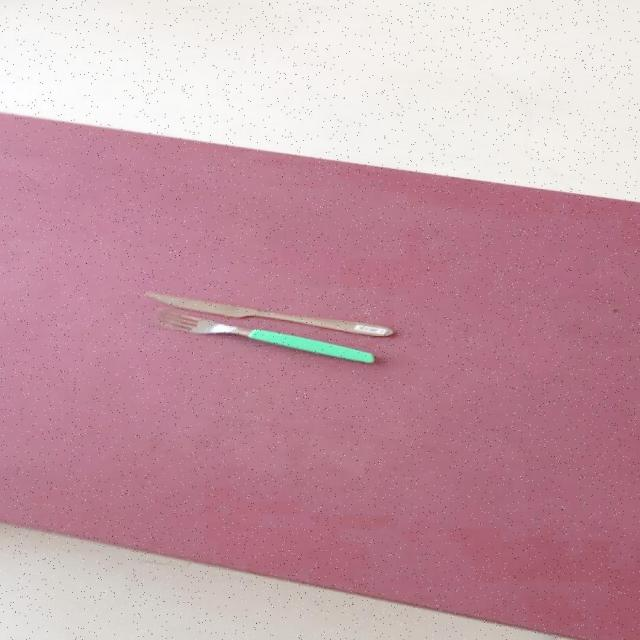Fork: (153, 308, 374, 364)
Knife: (141, 289, 393, 337)
